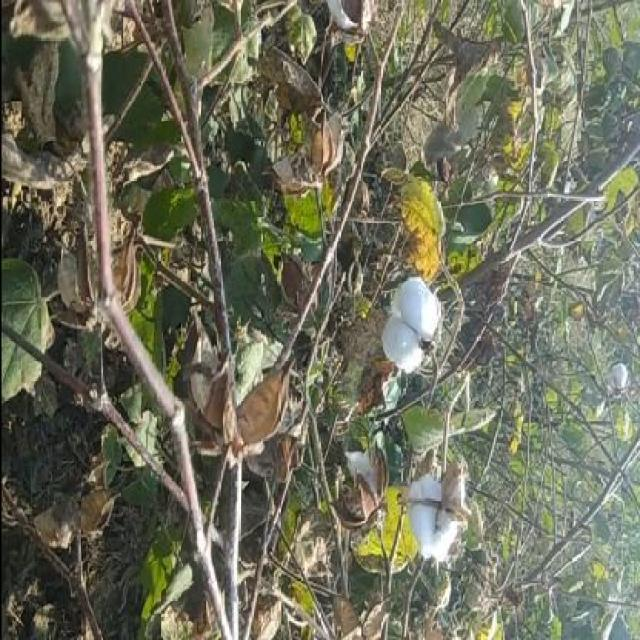cotton_ready: (365, 248, 450, 402), (383, 446, 477, 576)
